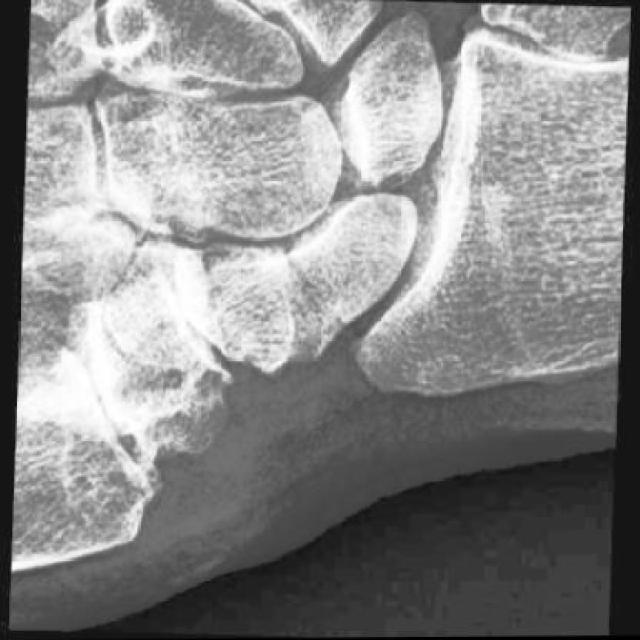Fracture: (248, 218, 354, 352)
